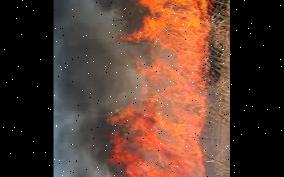fire: (81, 0, 217, 177)
